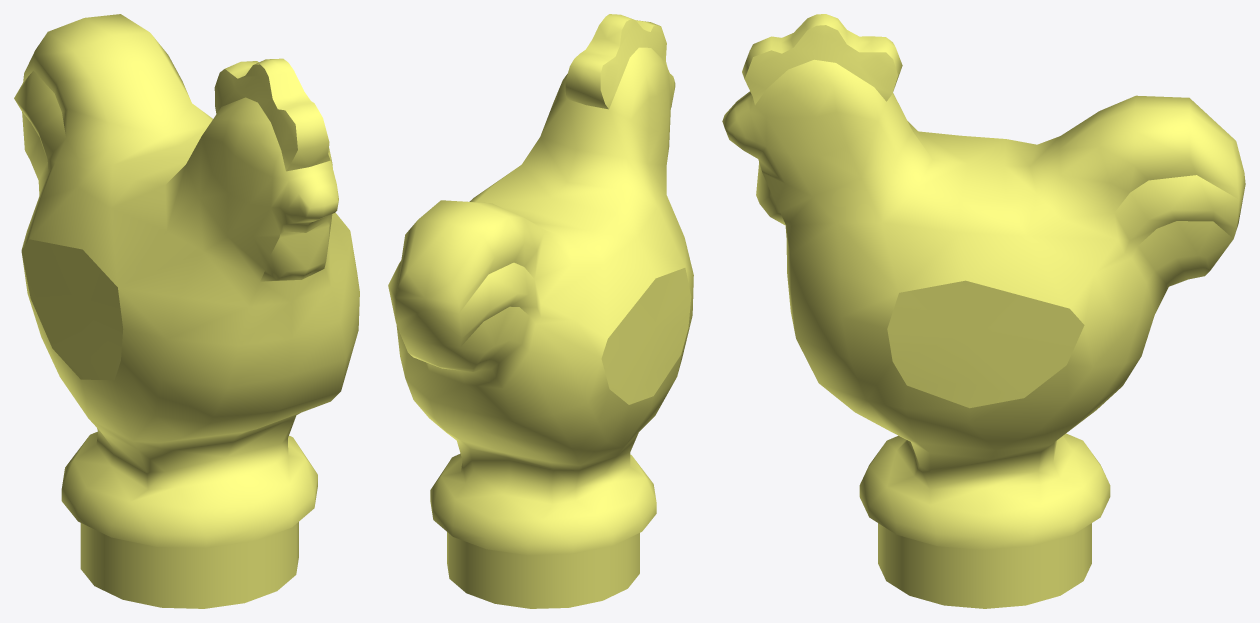
3 views of the same model, side by side, from view 1: azimuth 30°, elevation 25°; view 2: azimuth 150°, elevation 25°; view 3: azimuth 270°, elevation 25° (orthographic). The views are drawn at different scales.
Parts seen in each view (by area): view 1: 95342.dat; view 2: 95342.dat; view 3: 95342.dat.
Boxes of the visible parts, x1,y1,x2,y2 form: 95342.dat: (14,14,359,608); 95342.dat: (388,14,693,608); 95342.dat: (722,14,1245,608).
Bounding box in the file's own units: 0.00785 × 0.018 × 0.0157.
